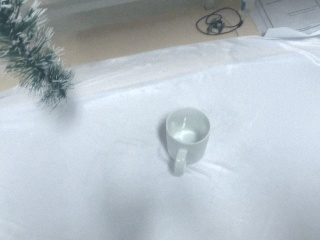cup: (164, 107, 212, 176)
